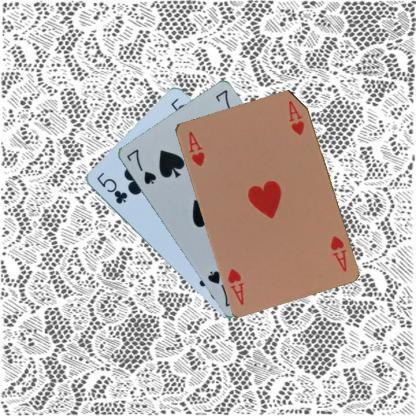5c: (93, 169, 128, 206)
7s: (123, 146, 157, 186)
Ah: (326, 232, 348, 272), (186, 128, 206, 168)
